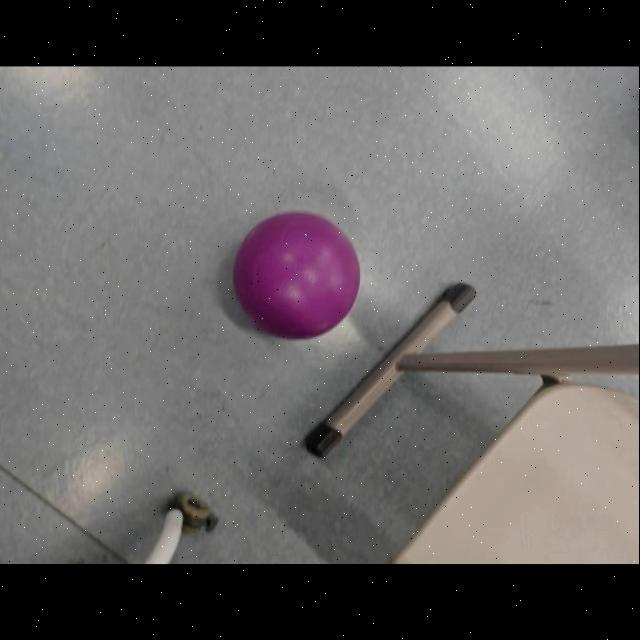P: (233, 209, 363, 341)
